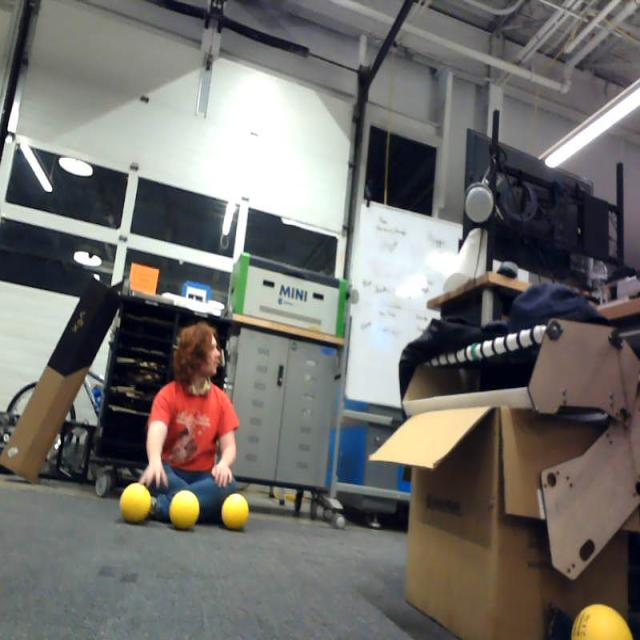Fuel: (572, 604, 634, 640), (120, 483, 150, 523), (170, 489, 199, 528), (222, 493, 248, 530)
